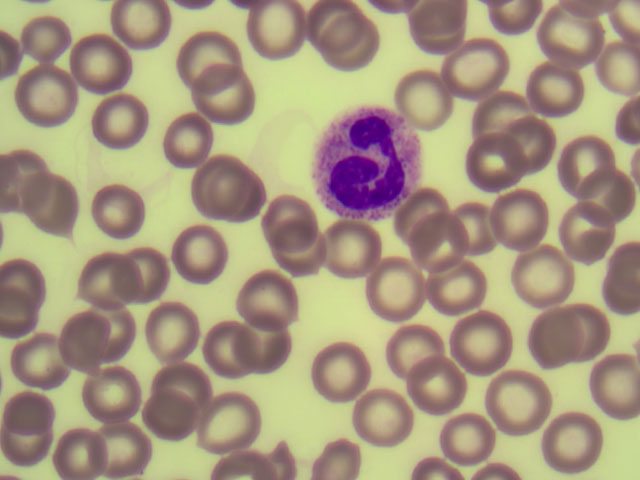RBC: (44, 414, 106, 480), (88, 414, 150, 480), (68, 28, 130, 93), (14, 65, 76, 130), (17, 9, 79, 74), (174, 19, 236, 84), (193, 70, 255, 135), (154, 101, 216, 166), (92, 93, 154, 158), (81, 180, 143, 245), (21, 173, 83, 238), (71, 246, 133, 311), (116, 240, 178, 305), (162, 221, 224, 286), (179, 155, 241, 220), (207, 155, 269, 220), (251, 186, 313, 251), (268, 222, 330, 287), (318, 215, 380, 280), (363, 255, 425, 320), (419, 216, 481, 281), (376, 176, 438, 241), (440, 194, 502, 259), (483, 188, 545, 253), (462, 136, 524, 201), (490, 109, 552, 174), (473, 78, 535, 143), (453, 32, 515, 97), (400, 68, 462, 133), (403, 1, 465, 66), (323, 18, 385, 83), (295, 1, 357, 66), (248, 1, 310, 66), (530, 56, 592, 121), (538, 5, 600, 70), (555, 130, 617, 195), (578, 158, 640, 223), (549, 201, 611, 266), (507, 247, 569, 312), (515, 307, 577, 372), (552, 306, 614, 371), (578, 353, 640, 418), (541, 409, 603, 474), (487, 375, 549, 440), (451, 306, 513, 371), (408, 353, 470, 418), (380, 313, 442, 378), (357, 379, 419, 444), (314, 338, 376, 403), (429, 404, 491, 469), (199, 391, 261, 456), (139, 387, 201, 452), (154, 357, 216, 422), (139, 300, 201, 365), (190, 316, 252, 381), (227, 316, 289, 381), (230, 275, 292, 340), (83, 360, 145, 425), (50, 306, 112, 371), (81, 300, 143, 365), (16, 324, 78, 389), (1, 379, 63, 444), (1, 260, 63, 325), (110, 1, 172, 65), (1, 146, 62, 211), (1, 413, 62, 478)
WBC: (305, 98, 425, 223)
